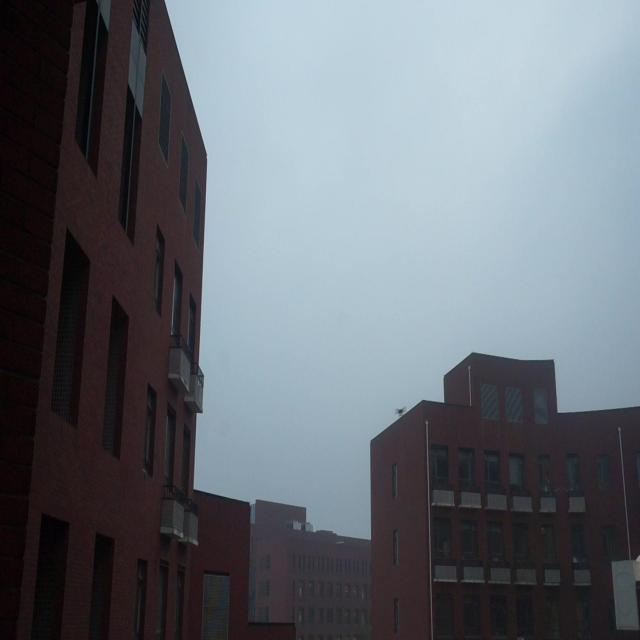UAV: (394, 406, 406, 417)
